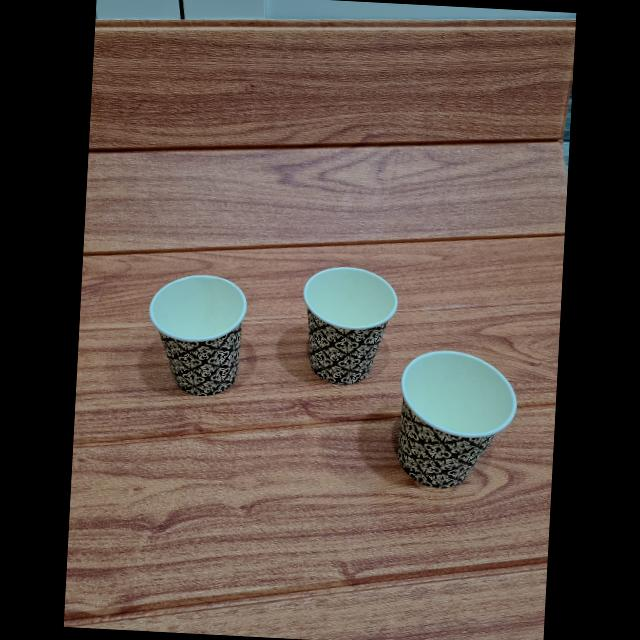trash: (393, 346, 521, 492), (144, 272, 256, 399), (292, 266, 388, 386)
